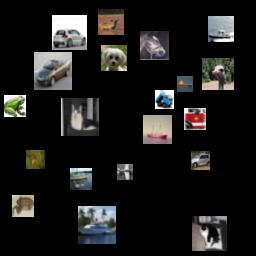airplane: (117, 164, 133, 180)
automobile: (34, 52, 72, 90), (52, 15, 87, 50), (191, 151, 210, 170)
bird: (202, 58, 234, 90)
cat: (61, 98, 99, 136), (192, 216, 227, 251)
deer: (98, 9, 124, 35), (26, 150, 45, 169)
dog: (101, 45, 127, 71)
frog: (4, 95, 26, 117), (12, 195, 34, 217)
ship: (78, 206, 116, 244), (143, 115, 172, 144), (208, 16, 234, 42), (70, 168, 92, 190), (177, 76, 193, 92)
truck: (184, 108, 206, 130), (155, 90, 174, 109)
